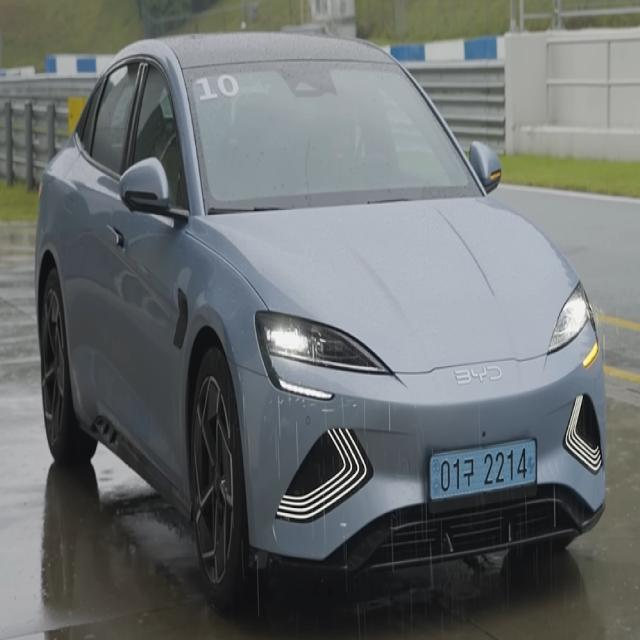car: (414, 418, 555, 516)
carev: (525, 438, 544, 498), (426, 447, 441, 505)
